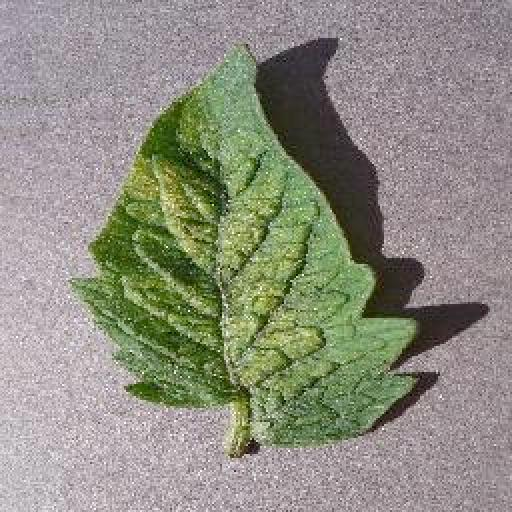disease_tomato: (68, 44, 424, 448)
